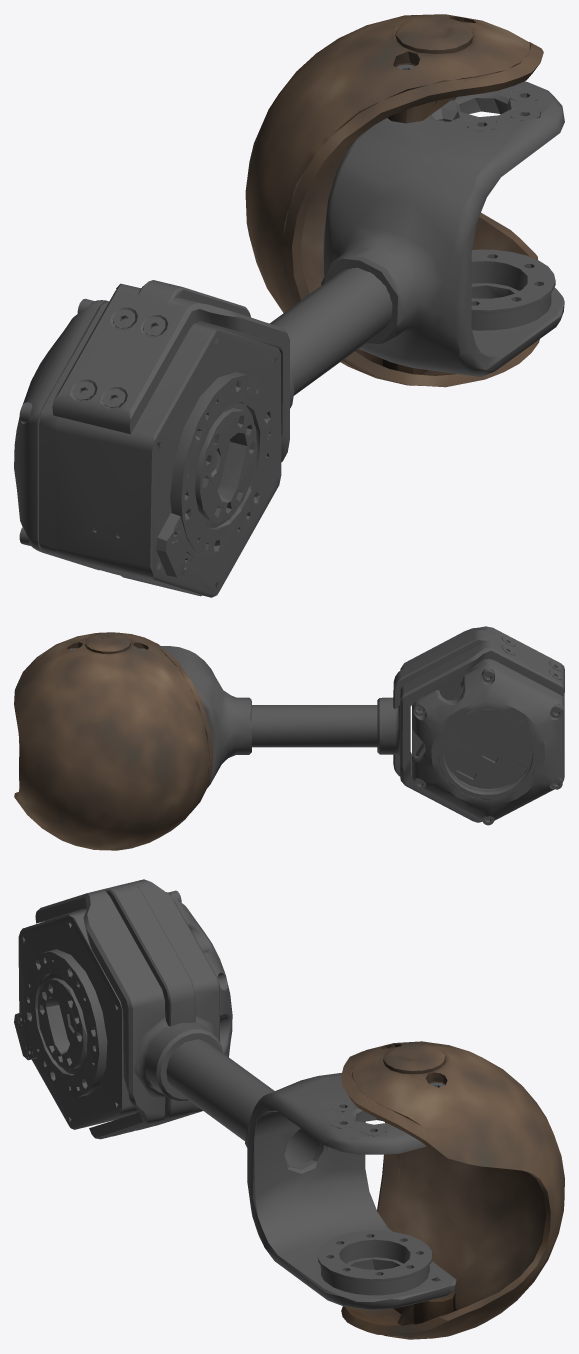
File: upperarm_r.dae
3 renders of one model, top to bottom at view 1: azimuth 30°, elevation 25°; view 2: azimuth 150°, elevation 25°; view 3: azimuth 270°, elevation 25°, orthographic. The views are drawn at different scales.
Visible parts, largest first — view 1: upperarm.001; view 2: upperarm.001; view 3: upperarm.001.
Part boxes in pixels (left/top/right/bottom): upperarm.001: left=14, top=14, right=564, bottom=597; upperarm.001: left=14, top=626, right=564, bottom=850; upperarm.001: left=14, top=879, right=564, bottom=1339.
Bounding box in the file's own units: 0.2136 × 0.1772 × 0.0975.
2 materials, 1 textured.
